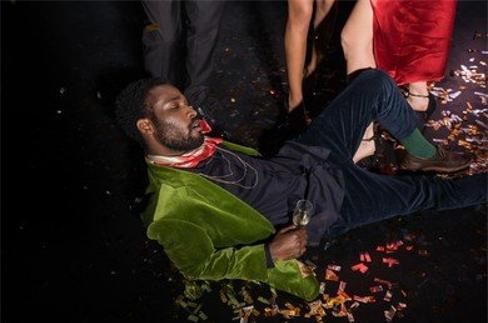Drunk: (149, 86, 202, 146)
